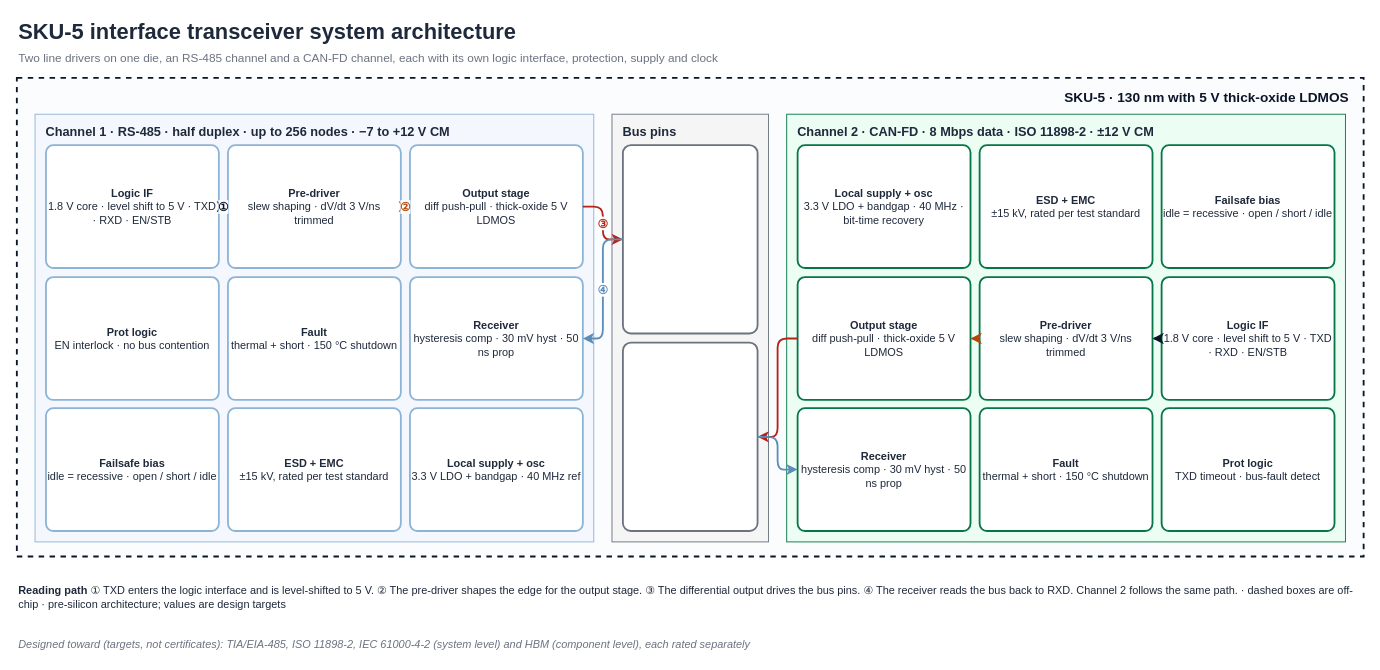
Some shapes in this 1380 by 670 pixel diagram are drawn without their labels. The centre of each missing label's shape, as x and y in pixels:
A / B RS-485: (x=690, y=239)
CANH / CANL CAN-FD: (x=690, y=436)
